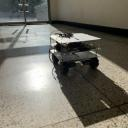cart: (50, 33, 102, 74)
